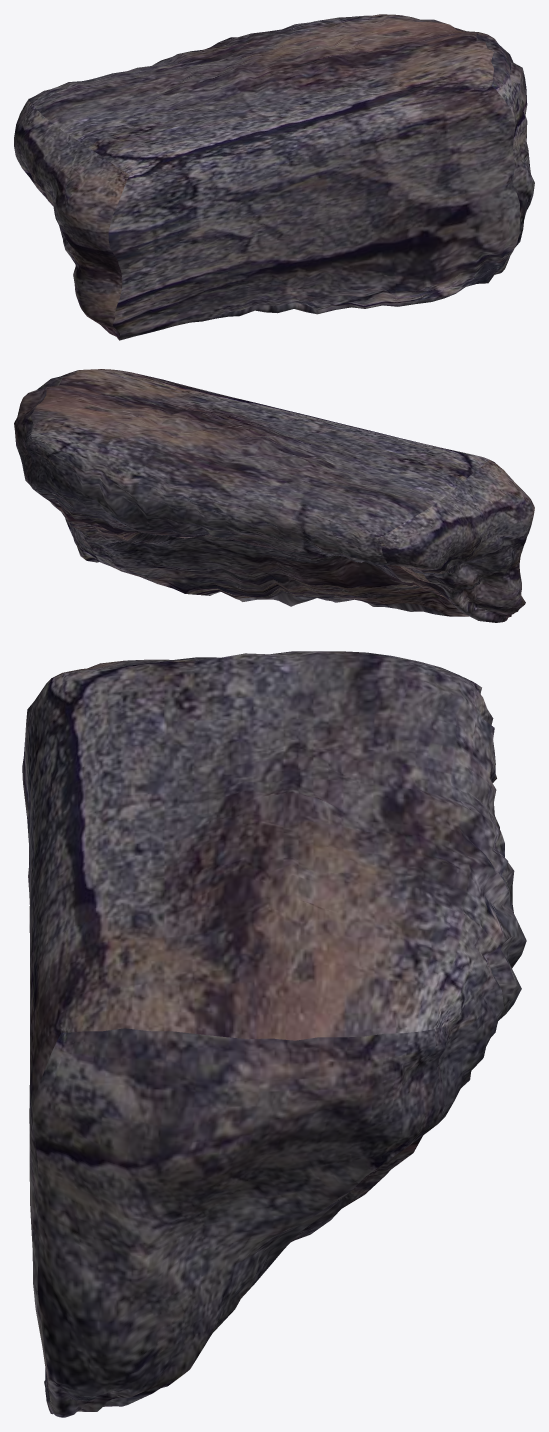
The model's file is TopPlatform2.fbx.
The picture shows the model from 3 angles, top to bottom: view 1: azimuth 30°, elevation 25°; view 2: azimuth 150°, elevation 25°; view 3: azimuth 270°, elevation 25°; orthographic projection. The views are drawn at different scales.
Visible parts, largest first — view 1: Верхняя латформа2; view 2: Верхняя латформа2; view 3: Верхняя латформа2.
Part boxes in pixels (left/top/right/bottom): Верхняя латформа2: left=14, top=14, right=534, bottom=340; Верхняя латформа2: left=14, top=369, right=534, bottom=622; Верхняя латформа2: left=22, top=651, right=526, bottom=1417.
Bounding box in the file's own units: 3879 × 1719 × 1764.
